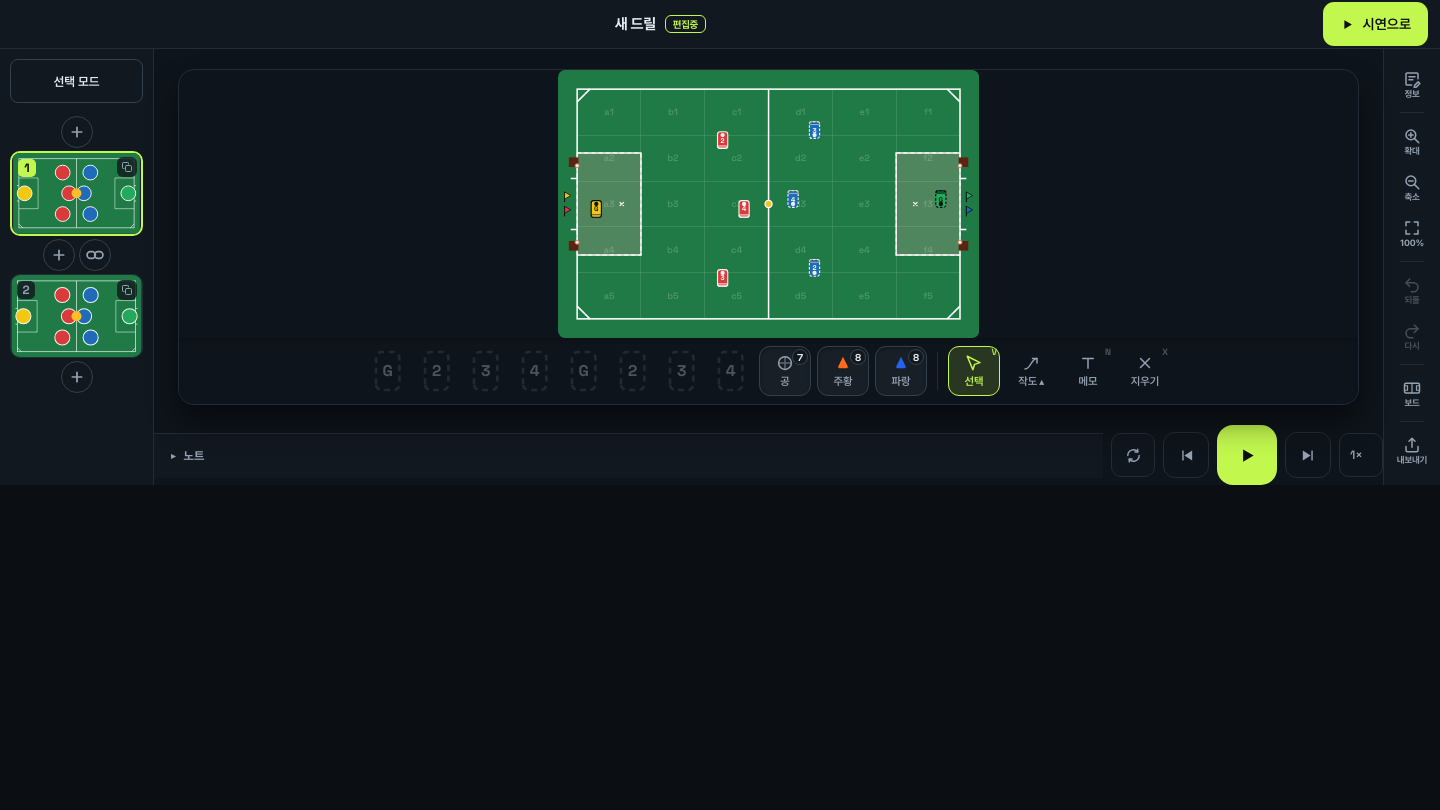
it: 드릴 편집의 [비우기] — 뜻은 하나다: 지금 스텝만 › 확인 문구가 범위를 말한다 — "이 스텝" 이고 "다른 스텝은 그대로"
Expected: the navigation bar named "도구" is shown, top-left (179, 338), bottom-right (1358, 404)
Click the button with aria-label "보드 설정" at (1412, 393), box top-left (1390, 371), bottom-right (1434, 415)
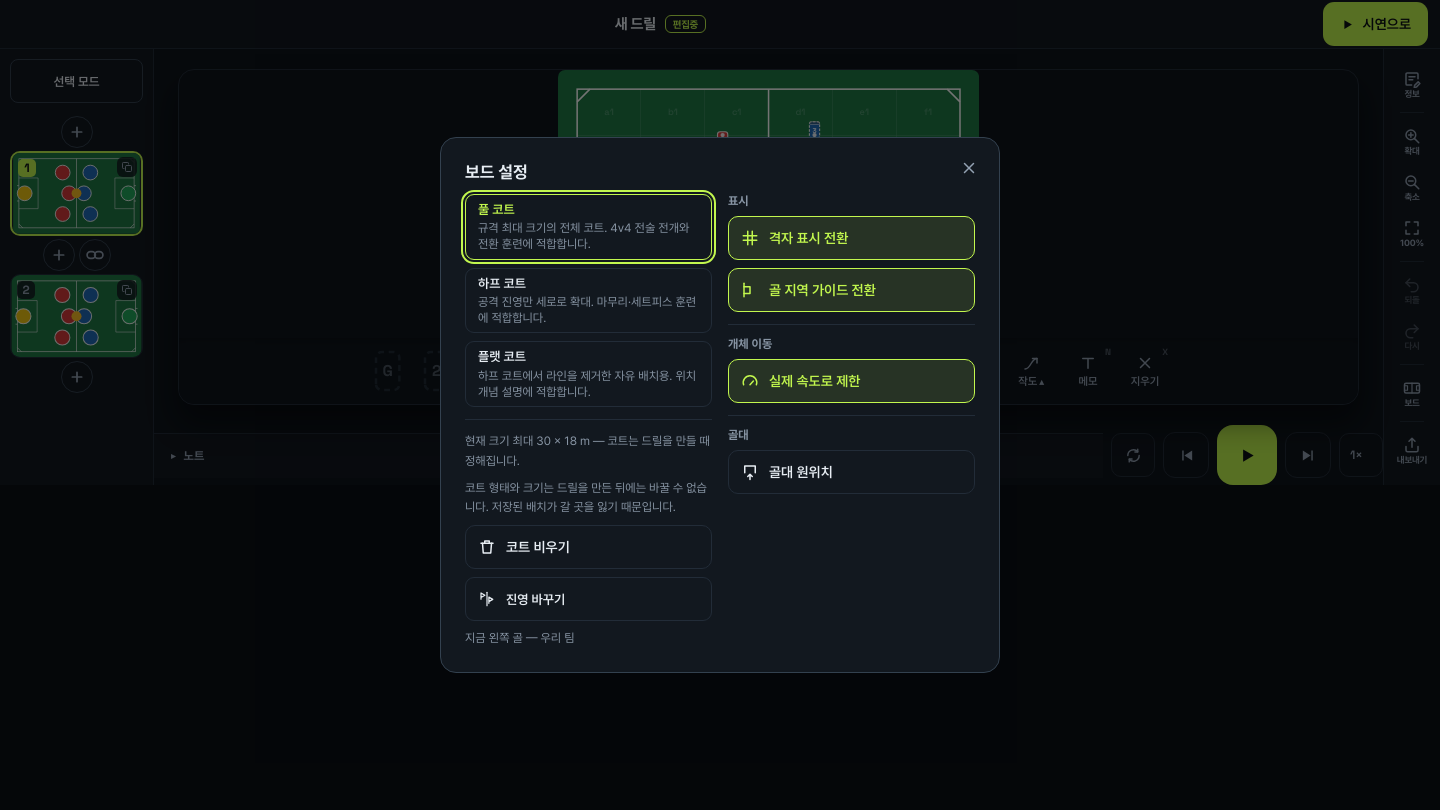
Click the button "코트 비우기" at (588, 547), box top-left (465, 525), bottom-right (712, 569)
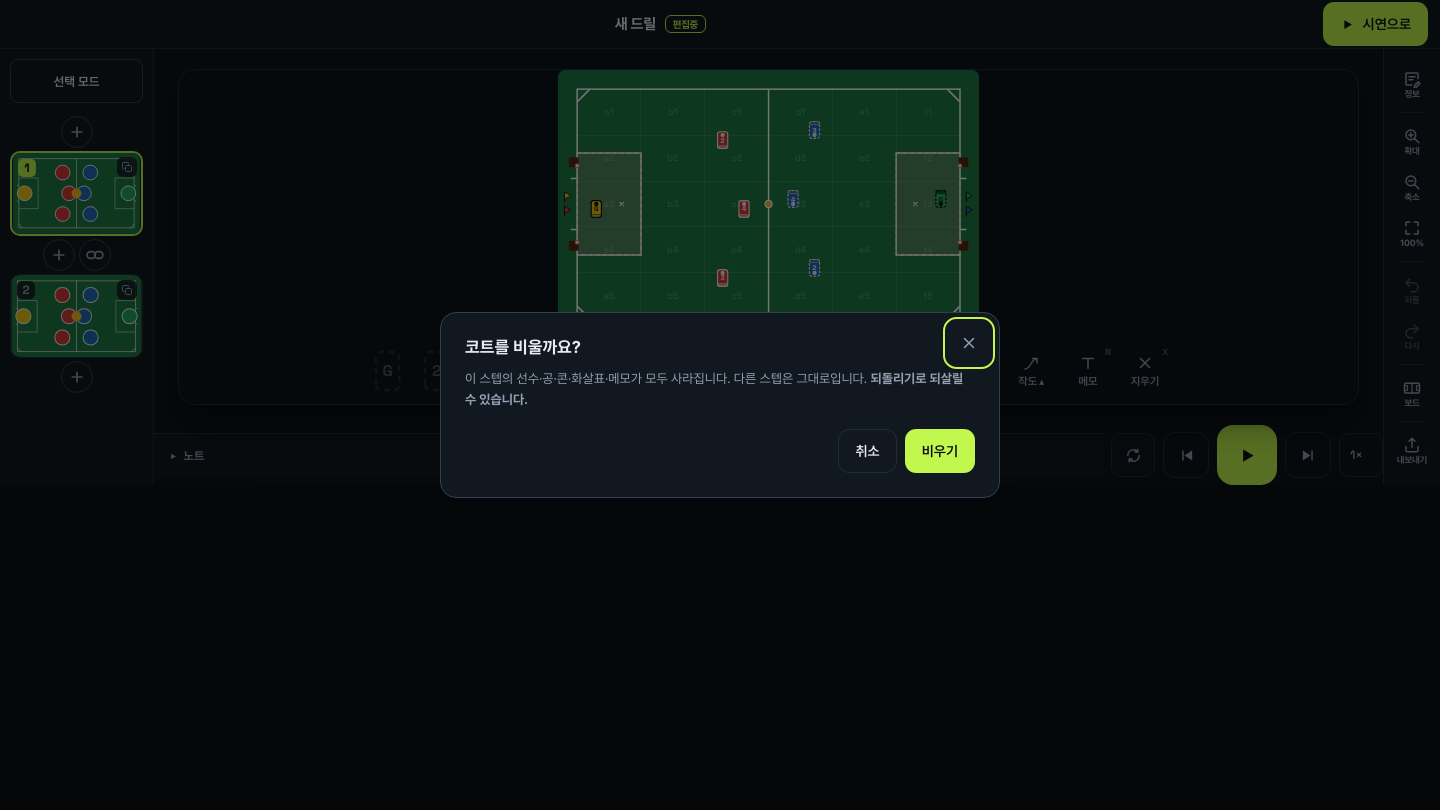
Now the text "다른 스텝은 그대로입니다" is shown, box top-left (465, 371), bottom-right (867, 386)
